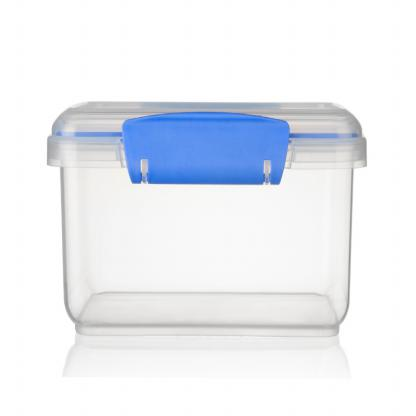plastic_box: (37, 70, 405, 392)
